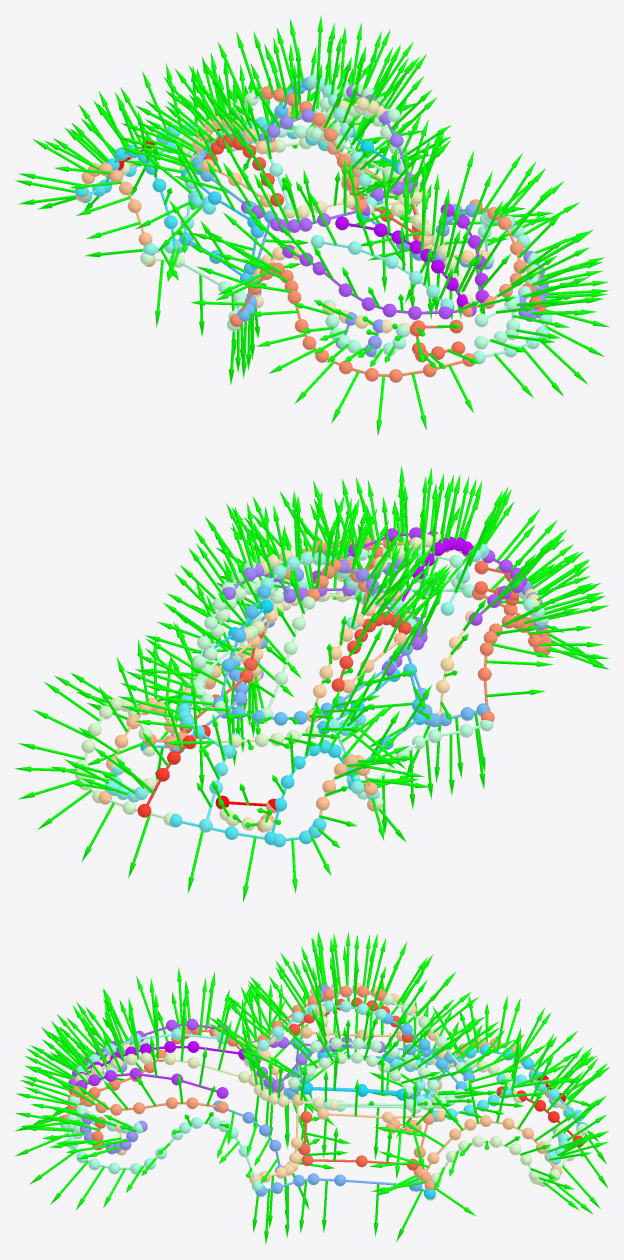
File: author1_car.gltf
3 views of the same model, one above another, from view 1: azimuth 30°, elevation 25°; view 2: azimuth 150°, elevation 25°; view 3: azimuth 270°, elevation 25° (orthographic). The views are drawn at different scales.
Bounding box in the file's own units: 0.5911 × 0.467 × 0.9983.
